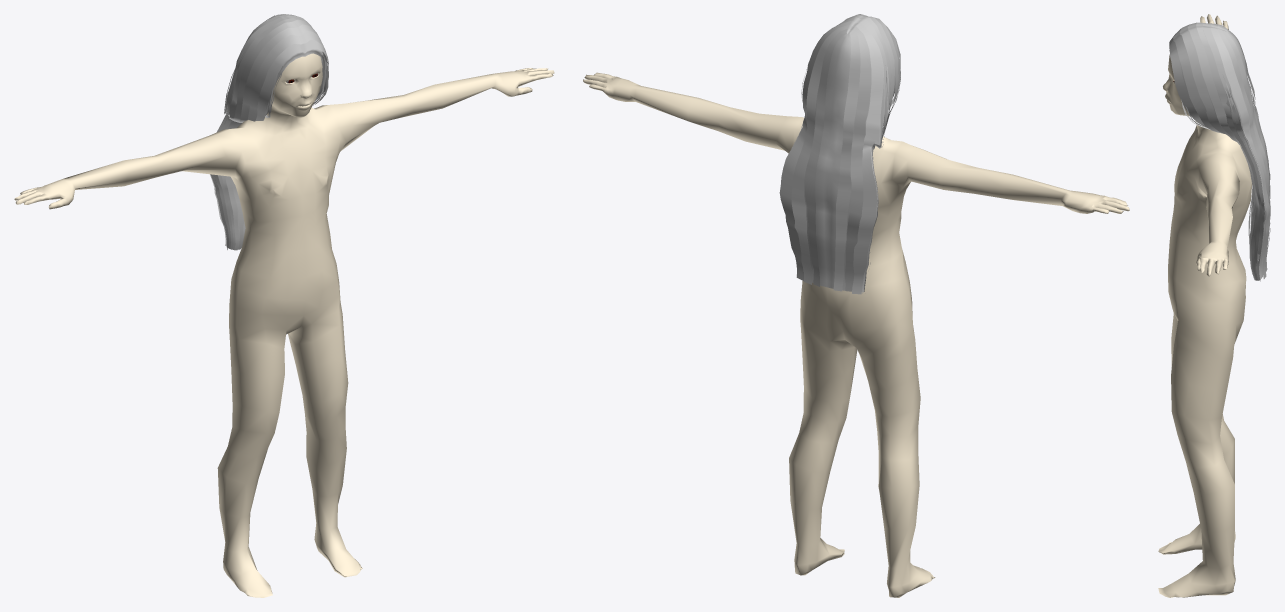
The model's file is India_Sem_osso.fbx.
3 renders of one model, left to right at view 1: azimuth 30°, elevation 25°; view 2: azimuth 150°, elevation 25°; view 3: azimuth 270°, elevation 25°, orthographic. The views are drawn at different scales.
Visible parts, largest first — view 1: female1605Mesh, long01Mesh; view 2: female1605Mesh, long01Mesh; view 3: female1605Mesh, long01Mesh.
Part boxes in pixels (<box>): female1605Mesh: <box>14,53,554,597</box>; long01Mesh: <box>210,14,328,250</box>; female1605Mesh: <box>583,72,1129,597</box>; long01Mesh: <box>779,14,900,294</box>; female1605Mesh: <box>1158,14,1252,597</box>; long01Mesh: <box>1169,22,1270,281</box>.
Bounding box in the file's own units: 44.79 × 43.95 × 8.2.
